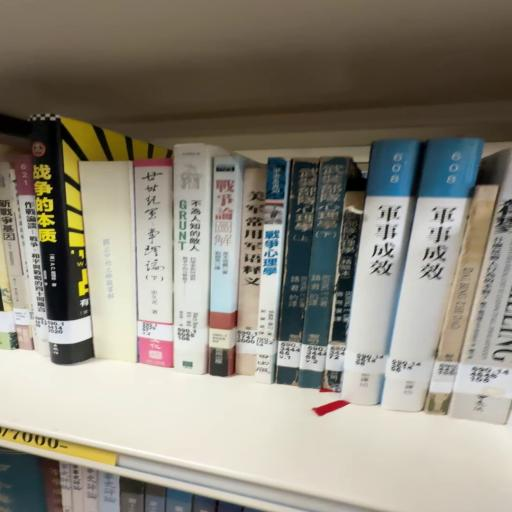backward: (79, 160, 138, 362)
book: (382, 146, 481, 412), (337, 137, 420, 408), (176, 142, 223, 376), (129, 155, 173, 373), (280, 155, 321, 385)
